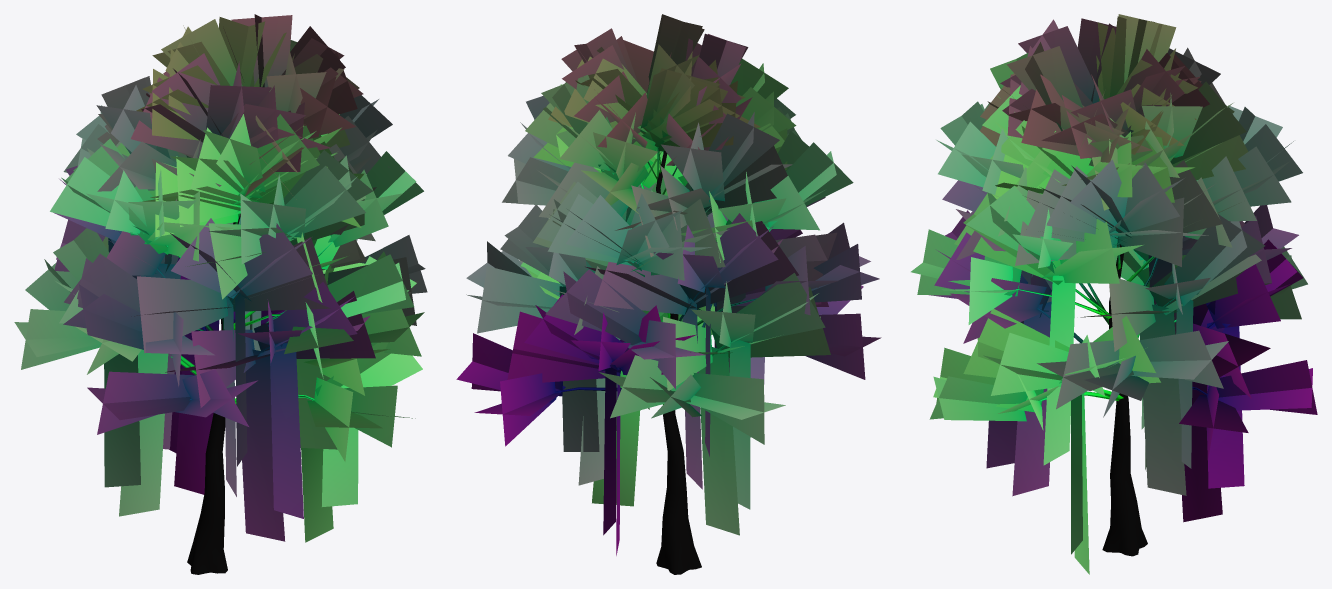
File: Tree_10_9.fbx
3 renders of one model, left to right at view 1: azimuth 30°, elevation 25°; view 2: azimuth 150°, elevation 25°; view 3: azimuth 270°, elevation 25°, orthographic. The views are drawn at different scales.
Visible parts, largest first — view 1: _9; view 2: _9; view 3: _9.
Boxes of the visible parts, x1,y1,x2,y2 form: _9: (14, 14, 427, 574); _9: (456, 14, 881, 574); _9: (911, 14, 1317, 574).
Bounding box in the file's own units: 1357 × 1847 × 1275.
